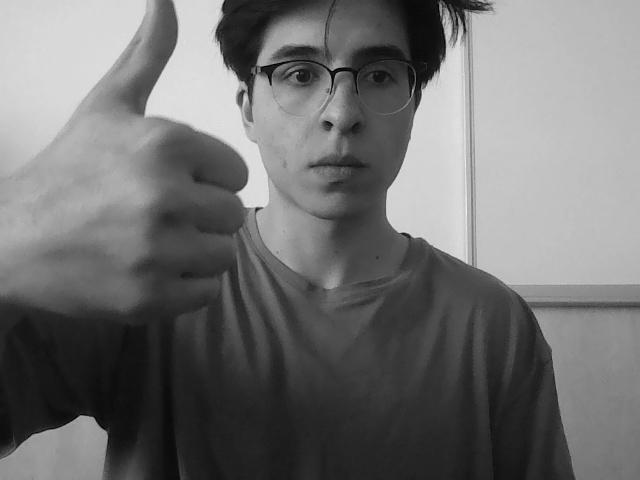good: (64, 3, 242, 324)
